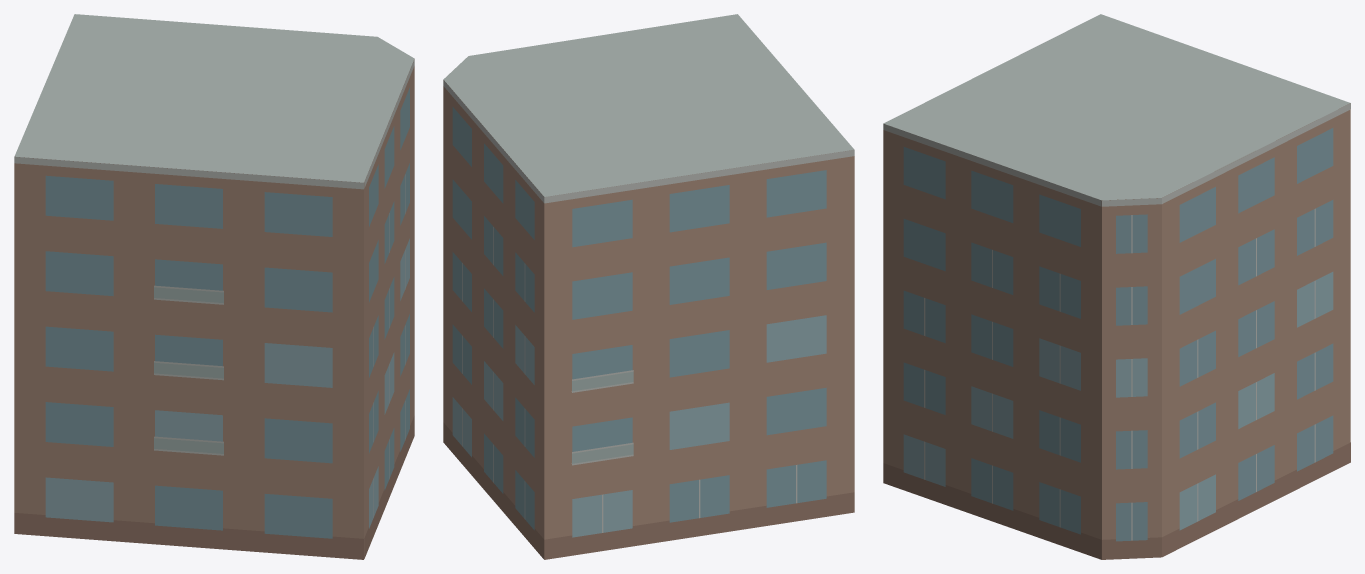
Rendered from survey-upis-32890466.glb.
3 views of the same model, side by side, from view 1: azimuth 30°, elevation 25°; view 2: azimuth 150°, elevation 25°; view 3: azimuth 270°, elevation 25° (orthographic). The views are drawn at different scales.
Parts seen in each view (by area): view 1: survey-upis-32890466.tmp; view 2: survey-upis-32890466.tmp; view 3: survey-upis-32890466.tmp.
Boxes of the visible parts, <box> form: survey-upis-32890466.tmp: <box>14,14,414,559</box>; survey-upis-32890466.tmp: <box>443,14,854,559</box>; survey-upis-32890466.tmp: <box>883,14,1350,559</box>.
Bounding box in the file's own units: 15.36 × 13.8 × 16.27.
